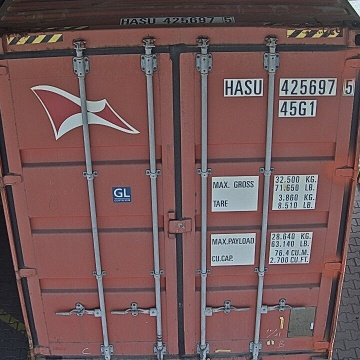serial_id: (224, 79, 354, 95)
